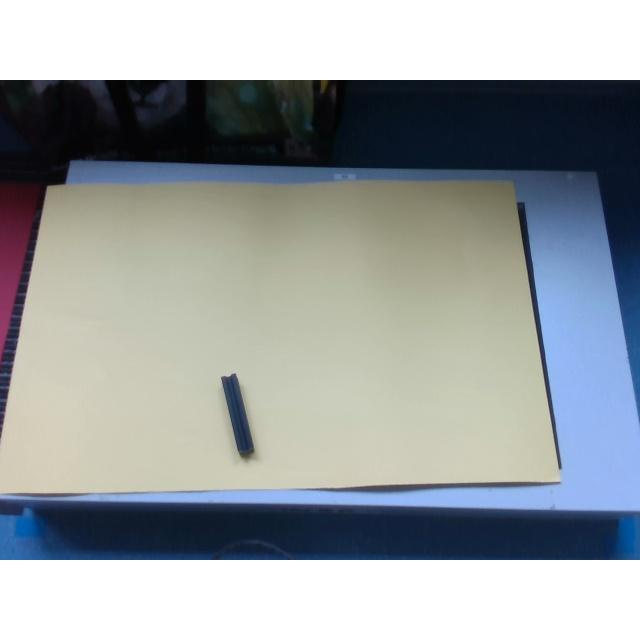F20_20_B: (222, 374, 254, 454)
